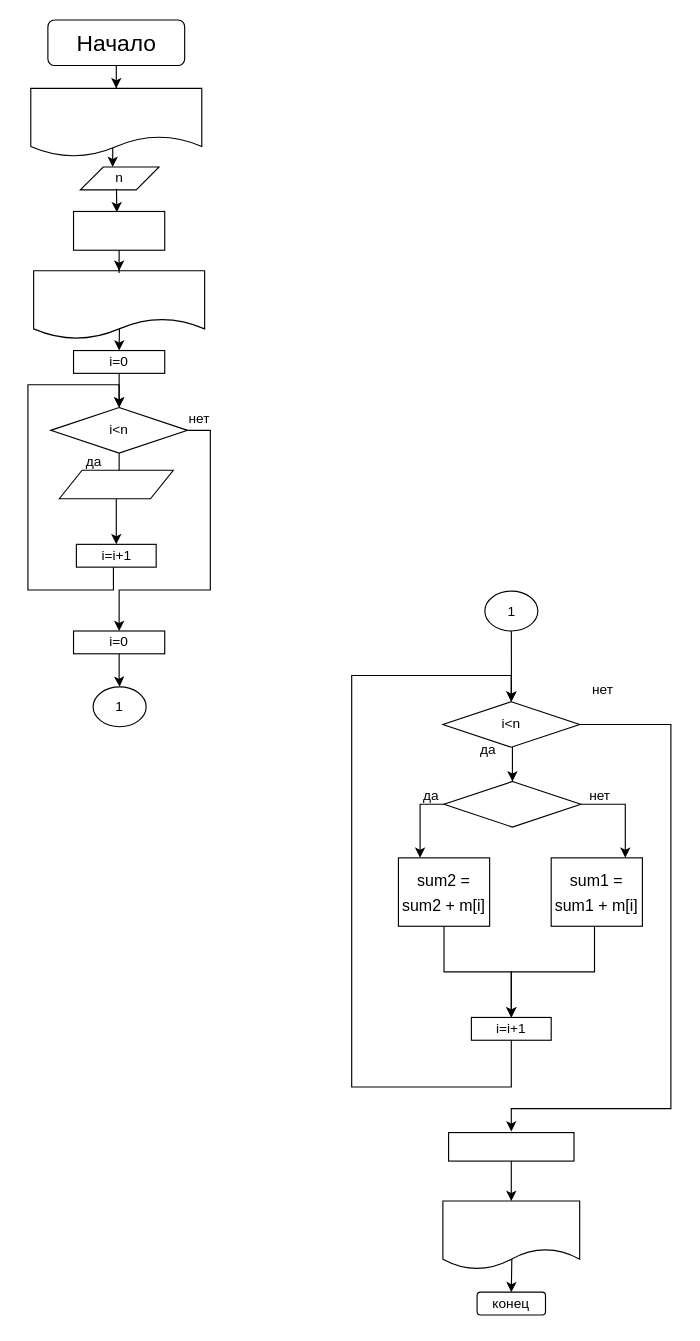
Some shapes in this 700 by 1341 pixel diagram are drawn without their labels. The shapes that lost their labels are listed below. From the top down, each one's centre as x and y in pixels, then its label:
point (116, 122): "enter amount of numbers"
point (118, 230): sum1 = 0 sum2 = 0
point (118, 304): "enter elements of array "
point (115, 484): m[i]
point (512, 803): i % 2 != 0
point (510, 1146): k = sum1 - sum2
point (511, 1234): "difference of even numbers is " , k
